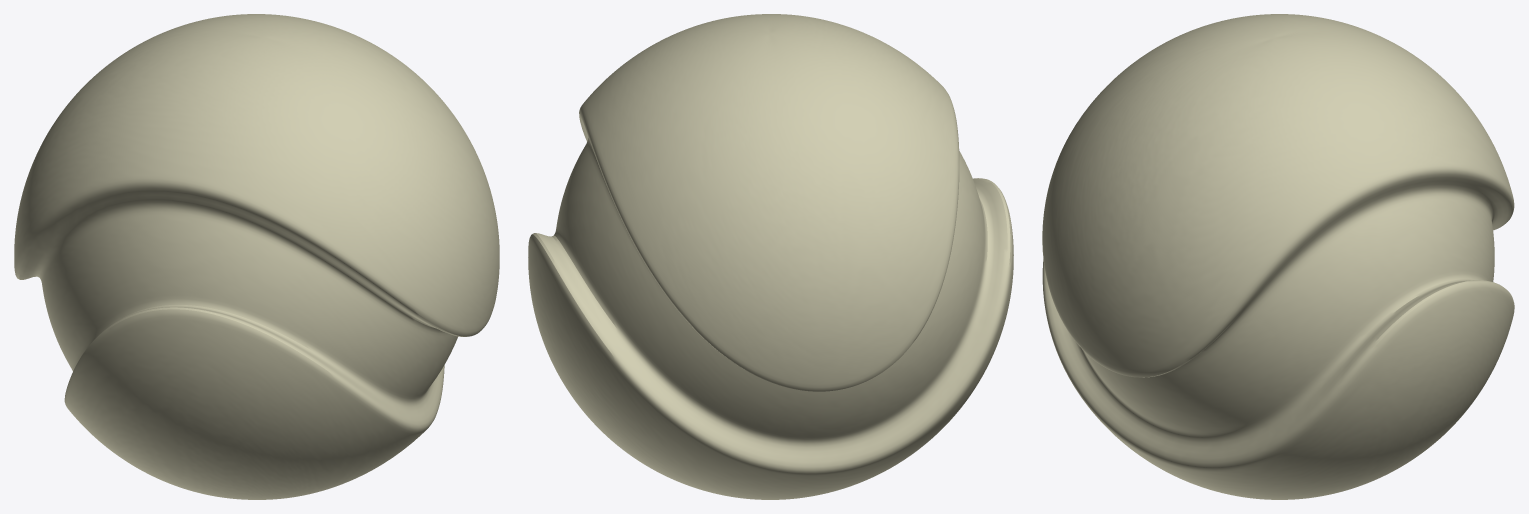
3 renders of one model, left to right at view 1: azimuth 30°, elevation 25°; view 2: azimuth 150°, elevation 25°; view 3: azimuth 270°, elevation 25°, orthographic.
Visible parts, largest first — view 1: Shape 09; view 2: Shape 09; view 3: Shape 09.
Boxes of the visible parts, x1,y1,x2,y2 form: Shape 09: (14, 14, 499, 499); Shape 09: (528, 14, 1013, 499); Shape 09: (1042, 14, 1514, 499).
Bounding box in the file's own units: 2.76 × 2.89 × 2.8.
